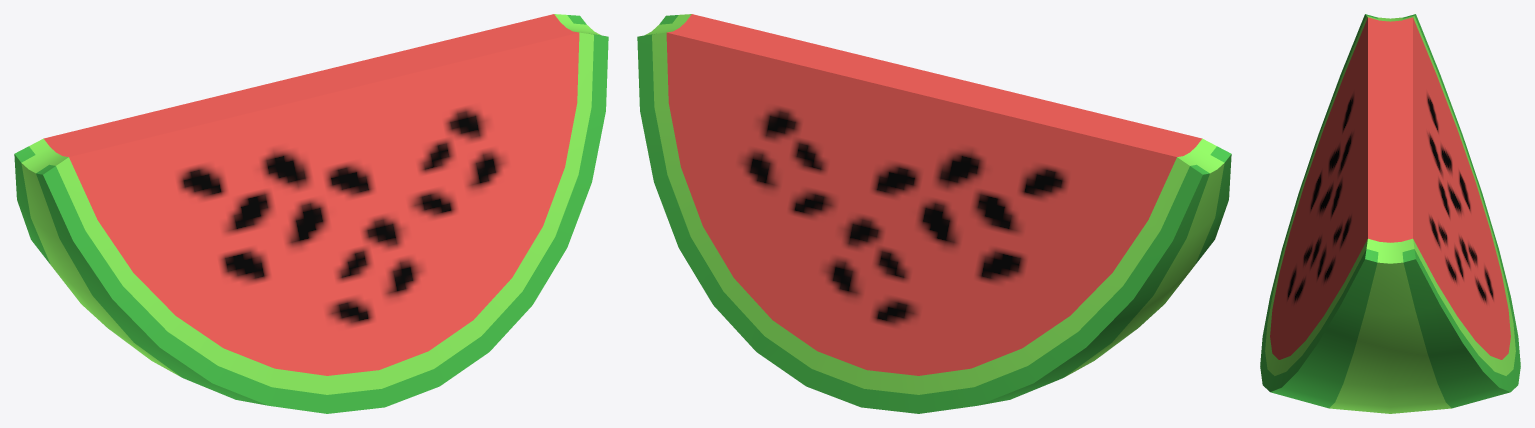
Rendered from Watermelon_Slice.fbx.
3 renders of one model, left to right at view 1: azimuth 30°, elevation 25°; view 2: azimuth 150°, elevation 25°; view 3: azimuth 270°, elevation 25°, orthographic. The views are drawn at different scales.
Parts seen in each view (by area): view 1: Watermelon_Slice; view 2: Watermelon_Slice; view 3: Watermelon_Slice.
Part boxes in pixels (x1,y1,x2,y2): Watermelon_Slice: (14,14,608,413); Watermelon_Slice: (637,14,1231,413); Watermelon_Slice: (1260,14,1520,413).
Bounding box in the file's own units: 85.28 × 42.45 × 38.33.
